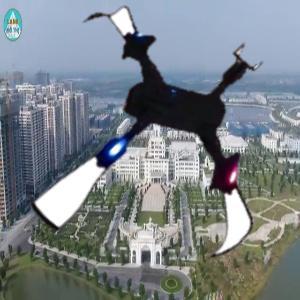drone: (10, 1, 294, 285)
